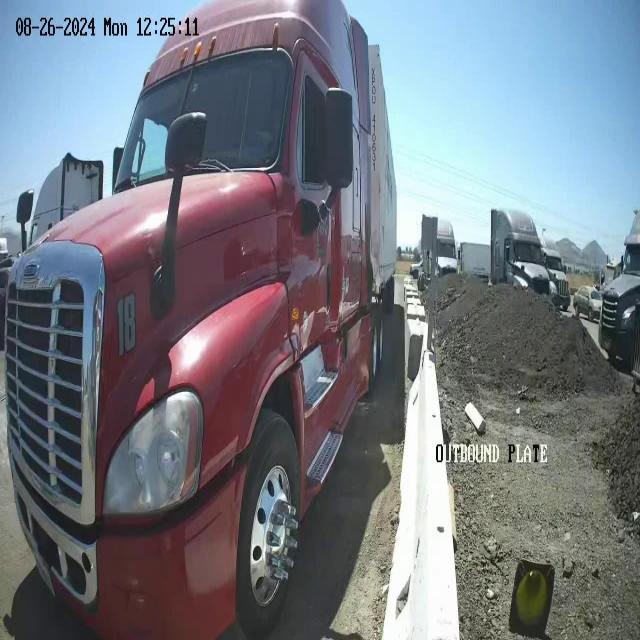TRUCK_OUT: (2, 1, 398, 638)
